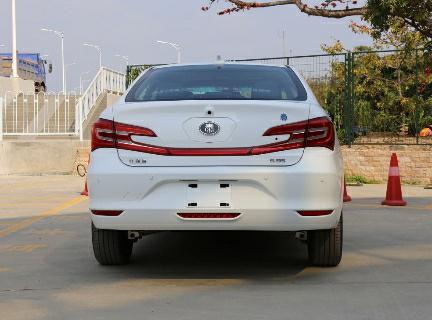比亚迪-秦: (78, 60, 352, 280)
